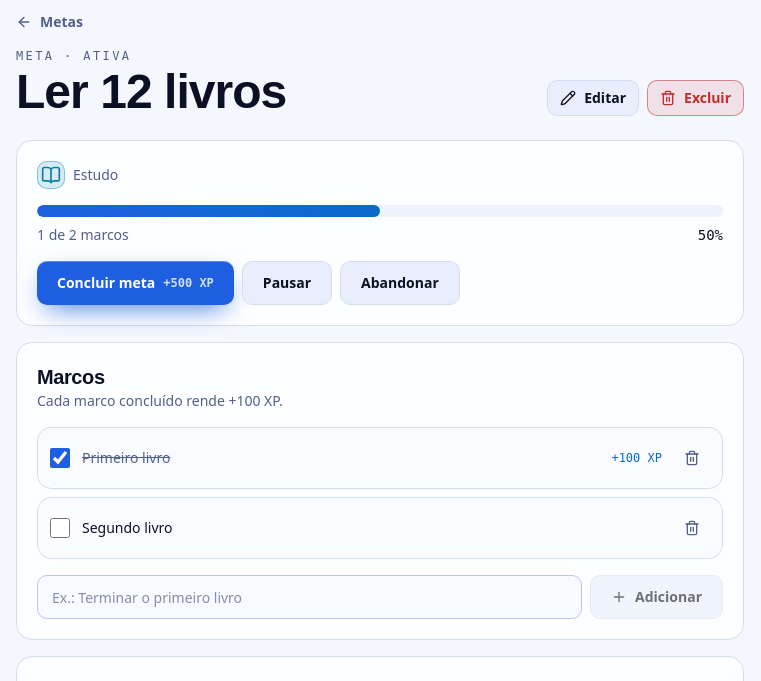
Scenario: GoalDetailPage › status da meta › pausar e abandonar só avisam o novo status, sem XP
The image size is (761, 681).
Click the button "Pausar": (287, 283) [242,261,332,305]
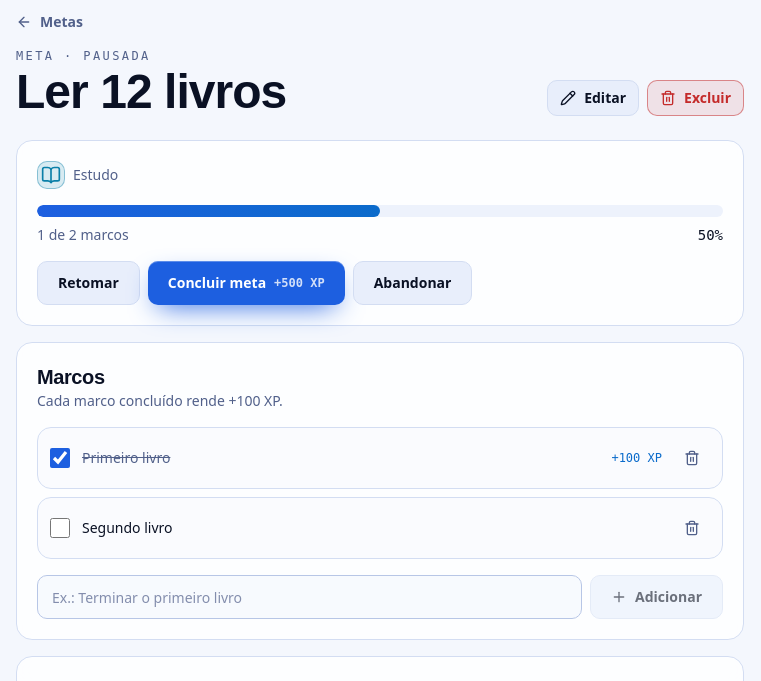
Check: the button "Retomar" is shown, box [37,261,140,305]
